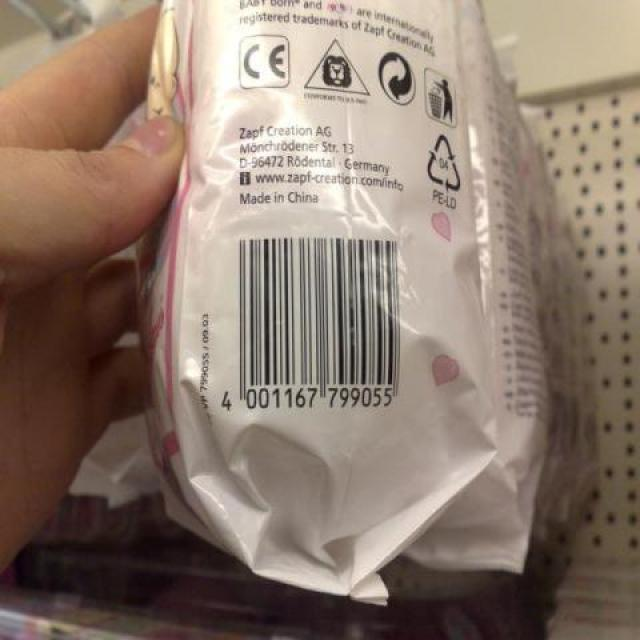Barcode: (215, 228, 408, 419)
